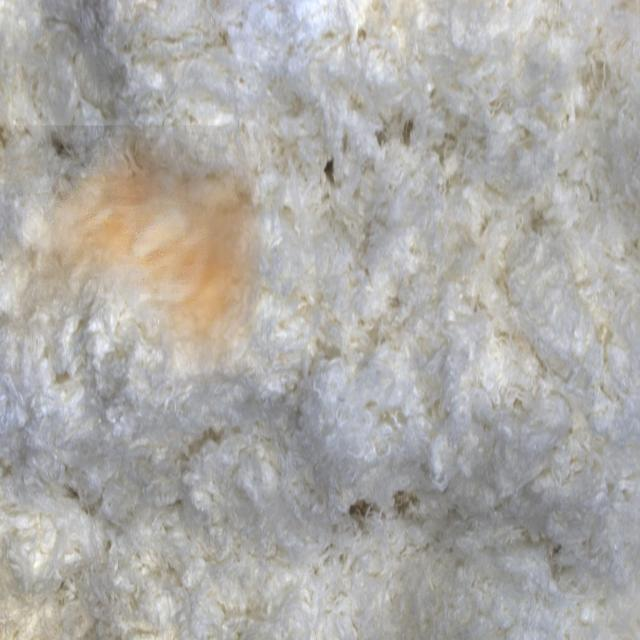dust: (5, 126, 262, 386)
